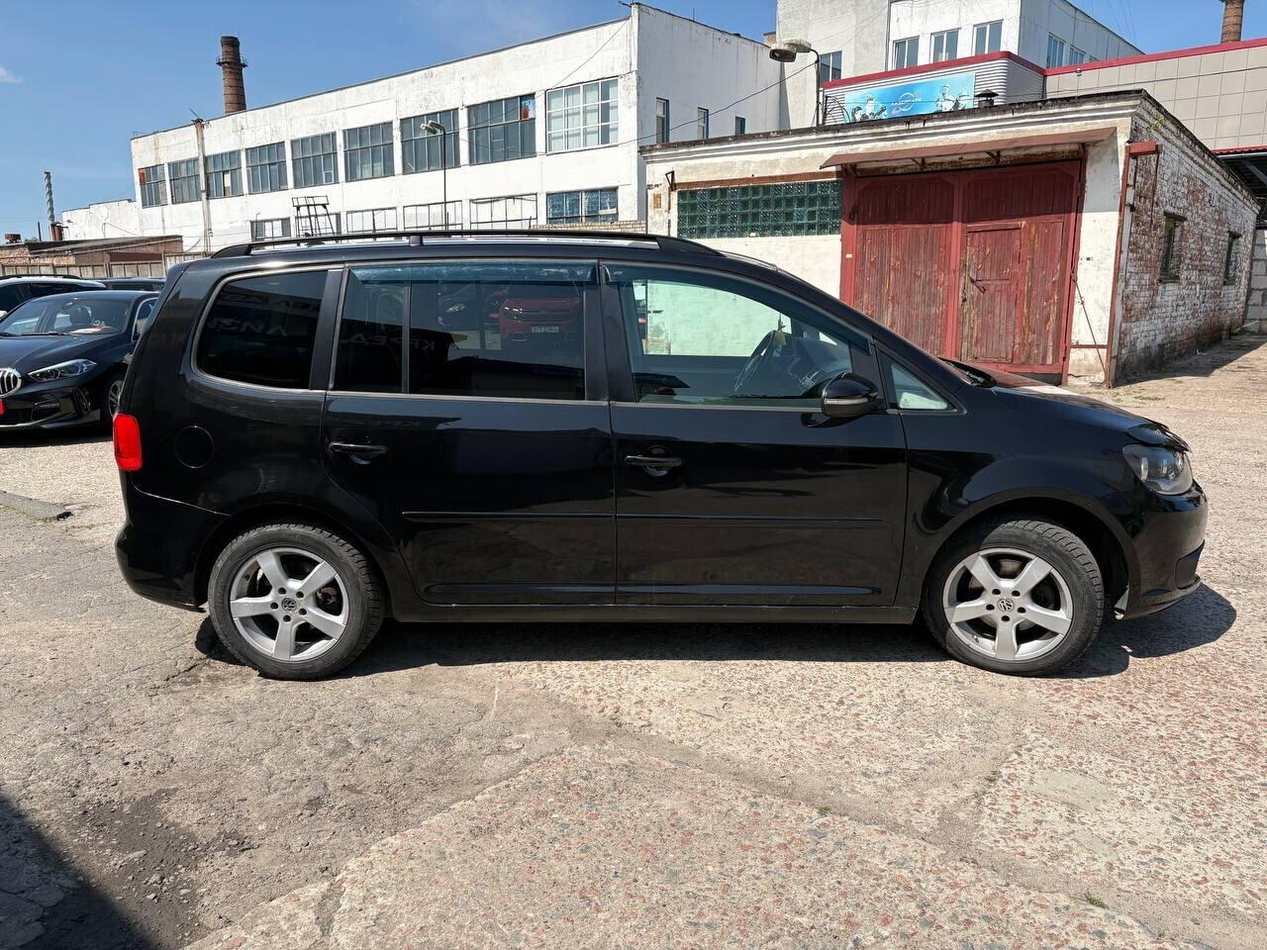Touran_2010-2015: (106, 236, 1210, 679)
